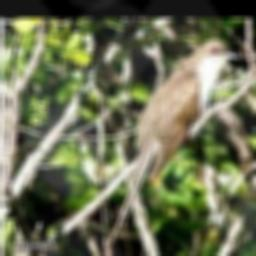Cuckoo: (109, 38, 240, 244)
